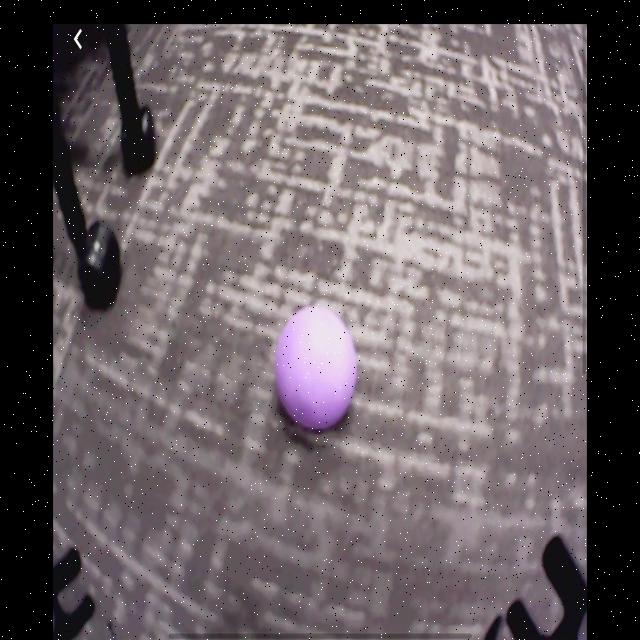ball: (278, 304, 358, 436)
